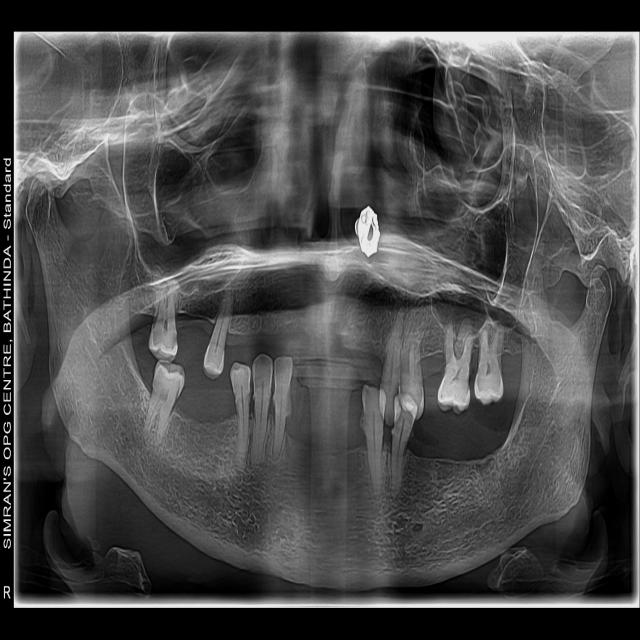Mandibular Canal: (83, 323, 259, 506), (408, 385, 561, 551)
Missing teeth: (225, 327, 382, 387), (287, 358, 364, 454), (409, 395, 510, 462), (181, 369, 233, 425), (177, 311, 210, 370), (422, 352, 444, 405)
